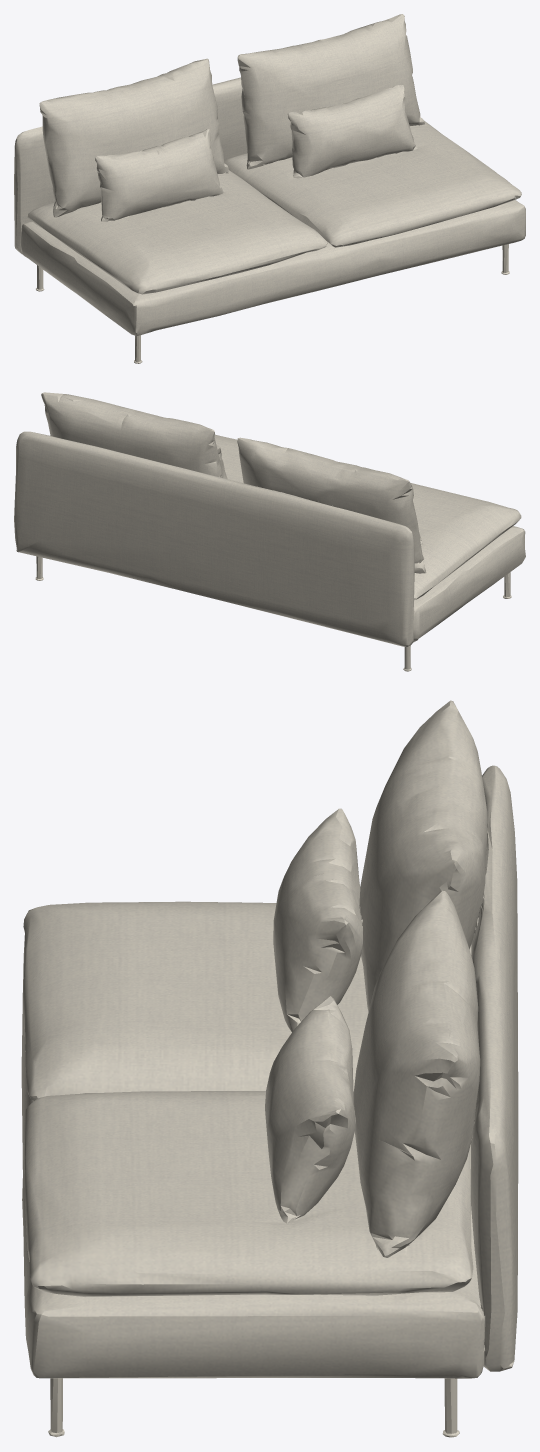
Rendered from soderhamn_sekcja_3_osobowa_39305415.glb.
3 renders of one model, top to bottom at view 1: azimuth 30°, elevation 25°; view 2: azimuth 150°, elevation 25°; view 3: azimuth 270°, elevation 25°, orthographic. The views are drawn at different scales.
Parts seen in each view (by area): view 1: soderhamn_sekcja_3_osobowa_39305415; view 2: soderhamn_sekcja_3_osobowa_39305415; view 3: soderhamn_sekcja_3_osobowa_39305415.
Boxes of the visible parts, bbox=[...] form: soderhamn_sekcja_3_osobowa_39305415: bbox=[14, 14, 525, 363]; soderhamn_sekcja_3_osobowa_39305415: bbox=[14, 392, 525, 671]; soderhamn_sekcja_3_osobowa_39305415: bbox=[21, 700, 518, 1437].
Bounding box in the file's own units: 1.9 × 0.865 × 1.02.
Materials: 2 (2 with a texture image).
